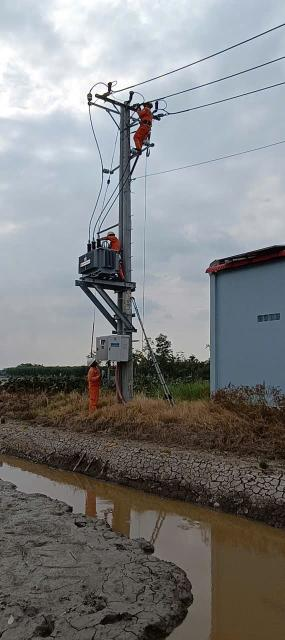helmet: (83, 357, 97, 368), (141, 100, 156, 108), (104, 230, 115, 237)
shoes: (132, 146, 144, 153)
